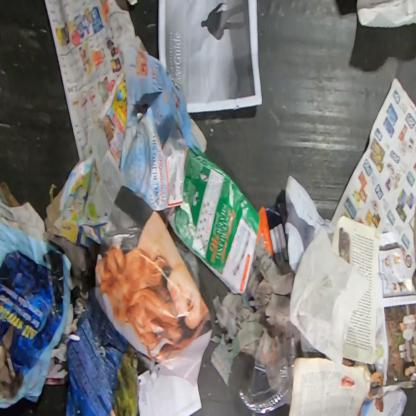cardboard: (167, 145, 259, 294), (64, 291, 161, 415), (253, 201, 289, 268), (46, 186, 66, 237)
rigid_plastic: (238, 327, 296, 414)
